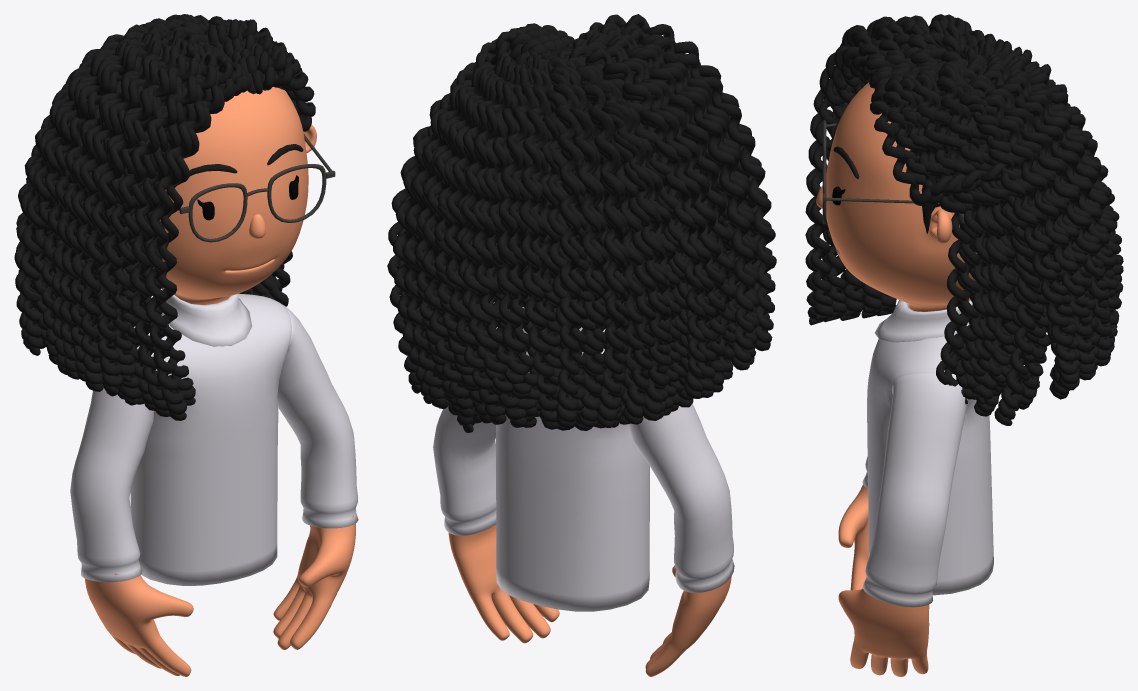
The picture shows the model from 3 angles, left to right: view 1: azimuth 30°, elevation 25°; view 2: azimuth 150°, elevation 25°; view 3: azimuth 270°, elevation 25°; orthographic projection. The views are drawn at different scales.
Visible parts, largest first — view 1: Hair13, female_turtelneck, head, body, eyeglass_2; view 2: Hair13, female_turtelneck, body; view 3: Hair13, female_turtelneck, head, body, eyeglass_2.
Boxes of the visible parts, x1,y1,x2,y2 form: Hair13: [14, 14, 315, 420]; female_turtelneck: [70, 287, 358, 585]; head: [152, 87, 316, 304]; body: [85, 515, 355, 676]; eyeglass_2: [178, 134, 335, 242]; Hair13: [387, 14, 776, 432]; female_turtelneck: [433, 327, 734, 611]; body: [448, 524, 731, 676]; Hair13: [805, 14, 1123, 425]; female_turtelneck: [862, 299, 993, 607]; head: [826, 82, 976, 311]; body: [838, 485, 929, 676]; eyeglass_2: [822, 120, 964, 223].
Size of the model in its own units: 6.84 by 13.33 by 6.32.
